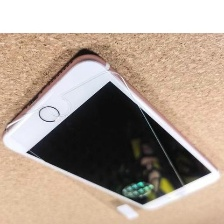phone: (0, 45, 224, 214)
